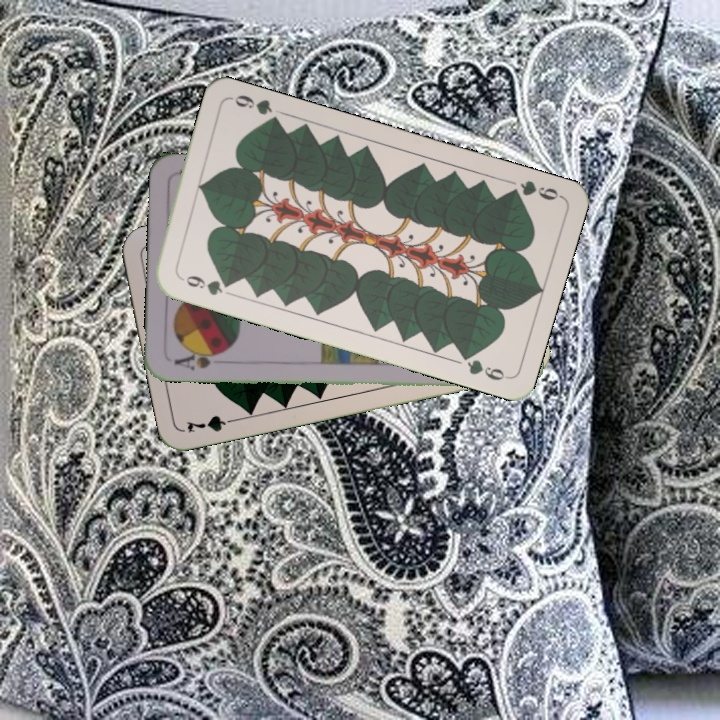G7: (182, 411, 241, 435)
G9: (503, 176, 564, 203), (175, 271, 234, 298)
SA: (170, 346, 228, 374)
